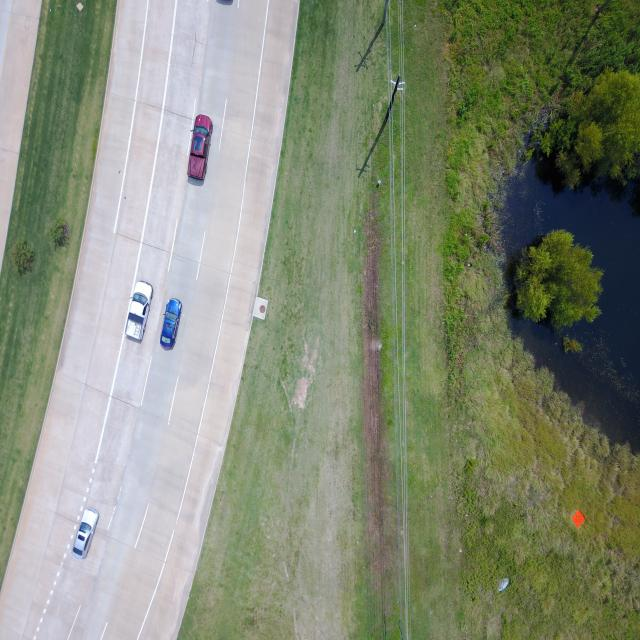fire: (503, 161, 640, 452)
